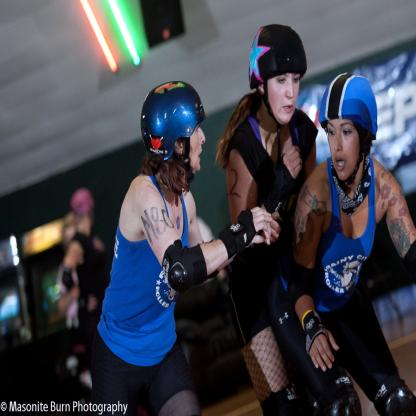Helmet: (249, 26, 308, 192), (138, 78, 212, 171), (318, 71, 377, 186), (71, 190, 95, 214)
